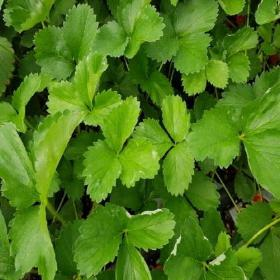Powdery Mildew Leaf: (72, 202, 133, 279), (185, 107, 242, 169), (163, 216, 214, 279), (81, 139, 123, 204), (238, 78, 279, 138), (127, 208, 176, 253), (118, 138, 161, 189), (74, 50, 109, 110), (131, 117, 175, 159), (2, 0, 55, 33), (201, 245, 249, 279)
